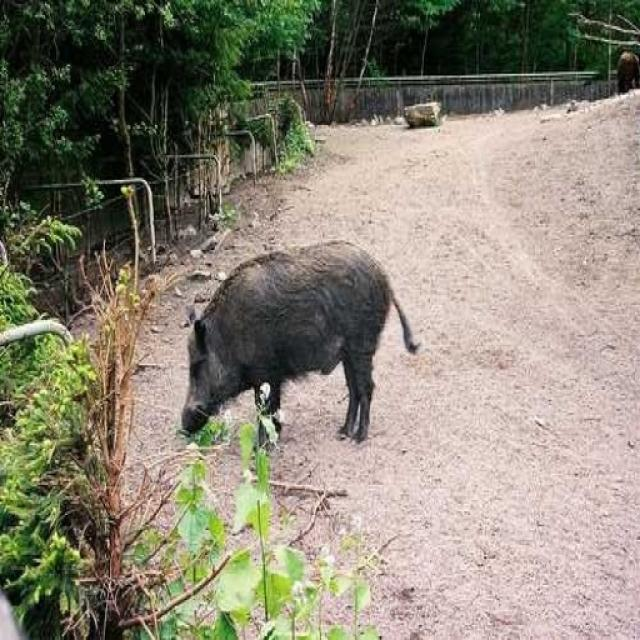pig: (178, 212, 410, 478)
